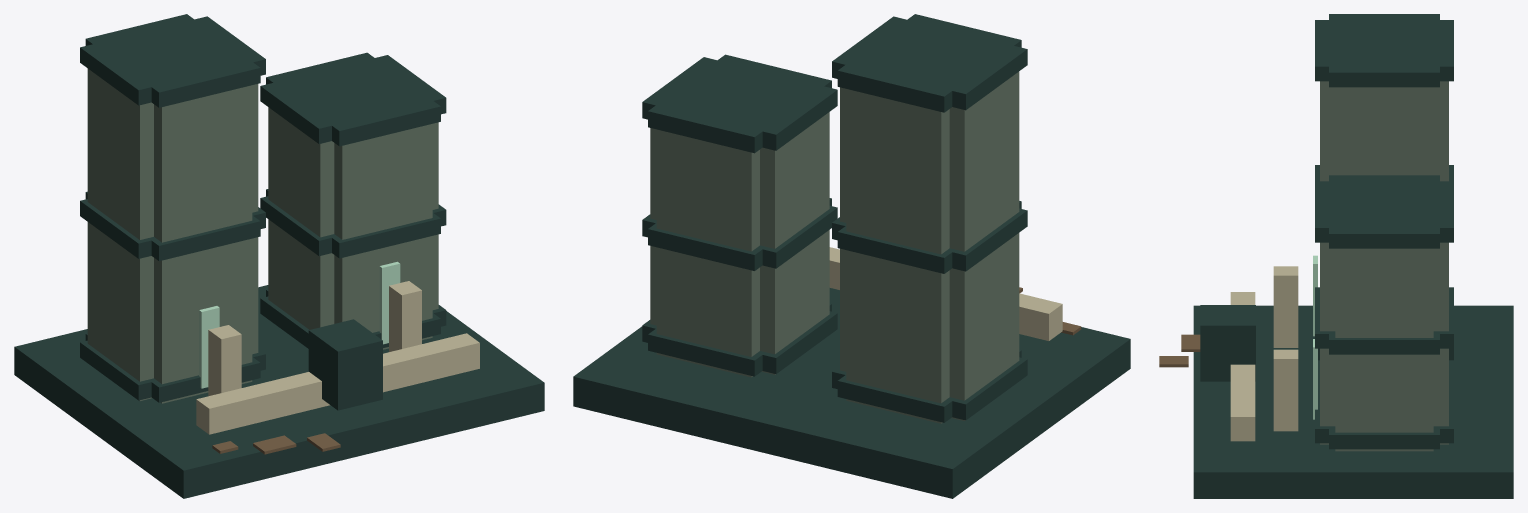
File: reservoir-weathered.glb
3 renders of one model, left to right at view 1: azimuth 30°, elevation 25°; view 2: azimuth 150°, elevation 25°; view 3: azimuth 270°, elevation 25°, orthographic. The views are drawn at different scales.
Visible parts, largest first — view 1: reservoir-weathered; view 2: reservoir-weathered; view 3: reservoir-weathered.
Boxes of the visible parts, <box> form: reservoir-weathered: <box>14,14,544,498</box>; reservoir-weathered: <box>573,14,1130,498</box>; reservoir-weathered: <box>1159,14,1513,498</box>.
Size of the model in its own units: 3.2 by 2.96 by 2.88.
